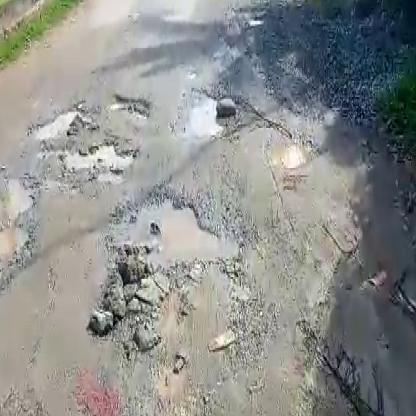pothole: (103, 187, 246, 266), (0, 170, 35, 295), (69, 135, 136, 169), (26, 106, 82, 146), (181, 93, 225, 143), (264, 130, 312, 170)
